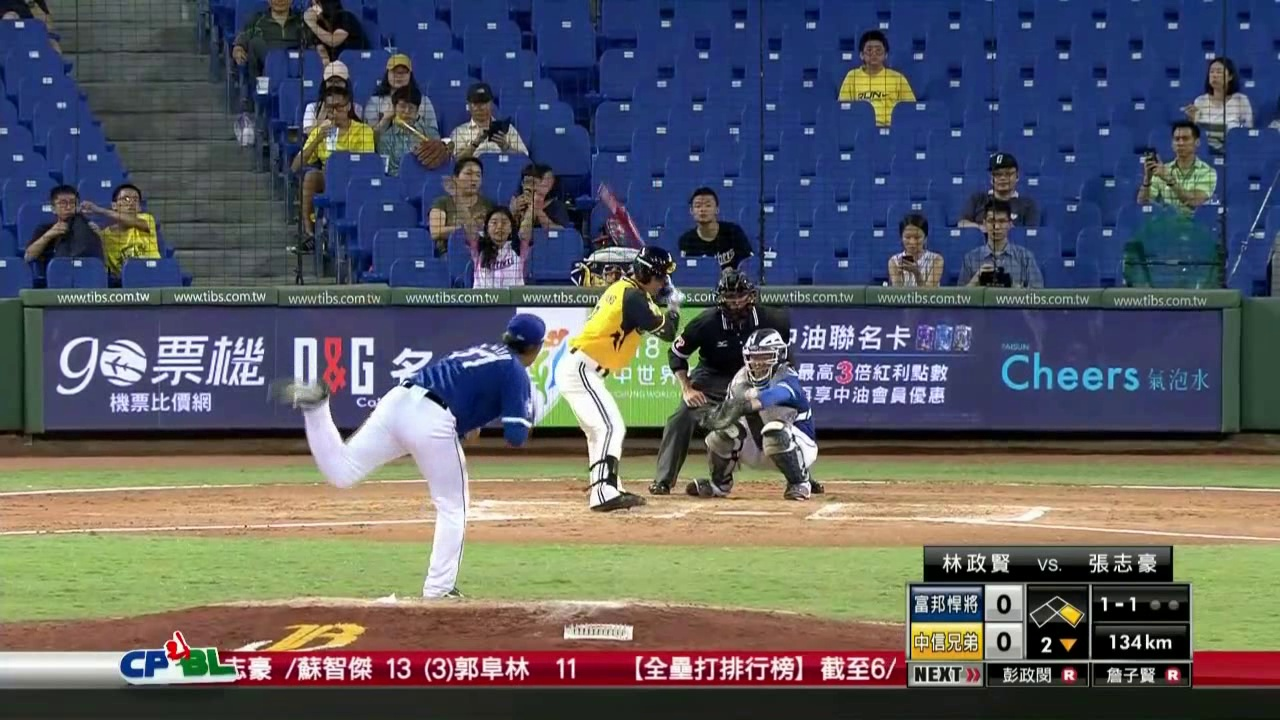base: (1028, 592, 1086, 628)
bat: (597, 182, 656, 259)
out: (1146, 589, 1183, 617)
score1: (986, 587, 1023, 618)
score2: (986, 625, 1020, 655)
session: (1026, 634, 1089, 659)
speed: (1095, 627, 1185, 656)
strikeball: (1093, 586, 1140, 621)
